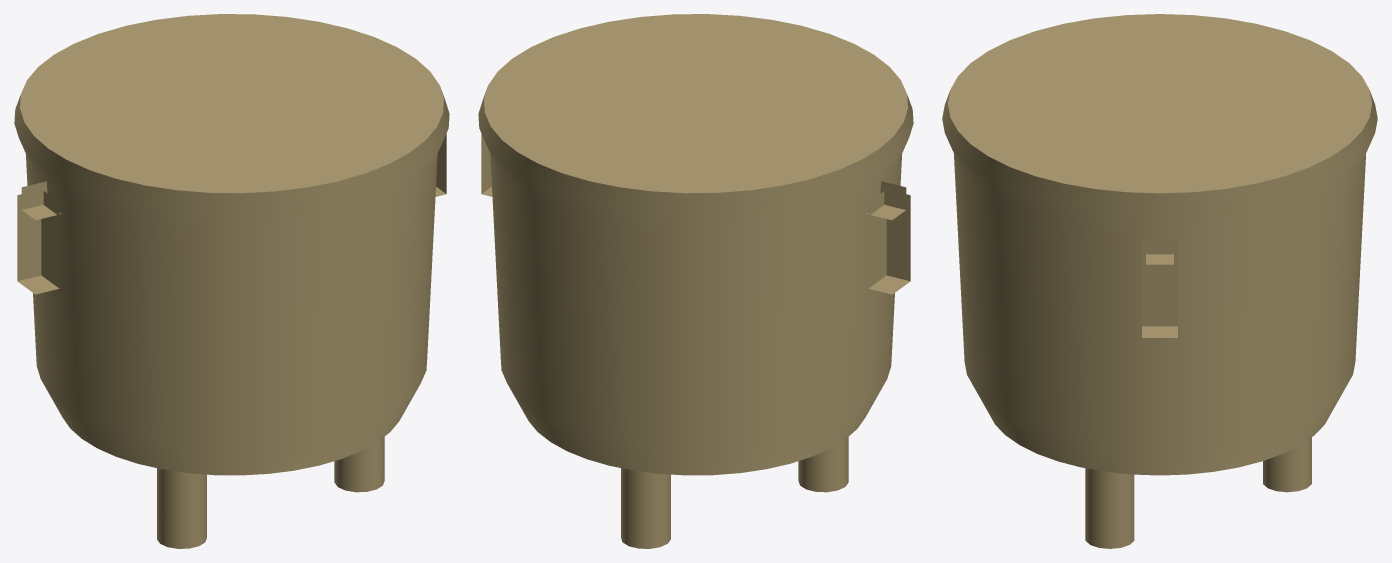
File: mao_gong_ding.glb
3 views of the same model, side by side, from view 1: azimuth 30°, elevation 25°; view 2: azimuth 150°, elevation 25°; view 3: azimuth 270°, elevation 25° (orthographic).
Parts seen in each view (by area): view 1: 毛公鼎; view 2: 毛公鼎; view 3: 毛公鼎.
Boxes of the visible parts, x1,y1,x2,y2 form: 毛公鼎: (14,14,449,548); 毛公鼎: (478,14,913,548); 毛公鼎: (942,14,1377,548).
Size of the model in its own units: 1.7 by 1.52 by 1.56.
